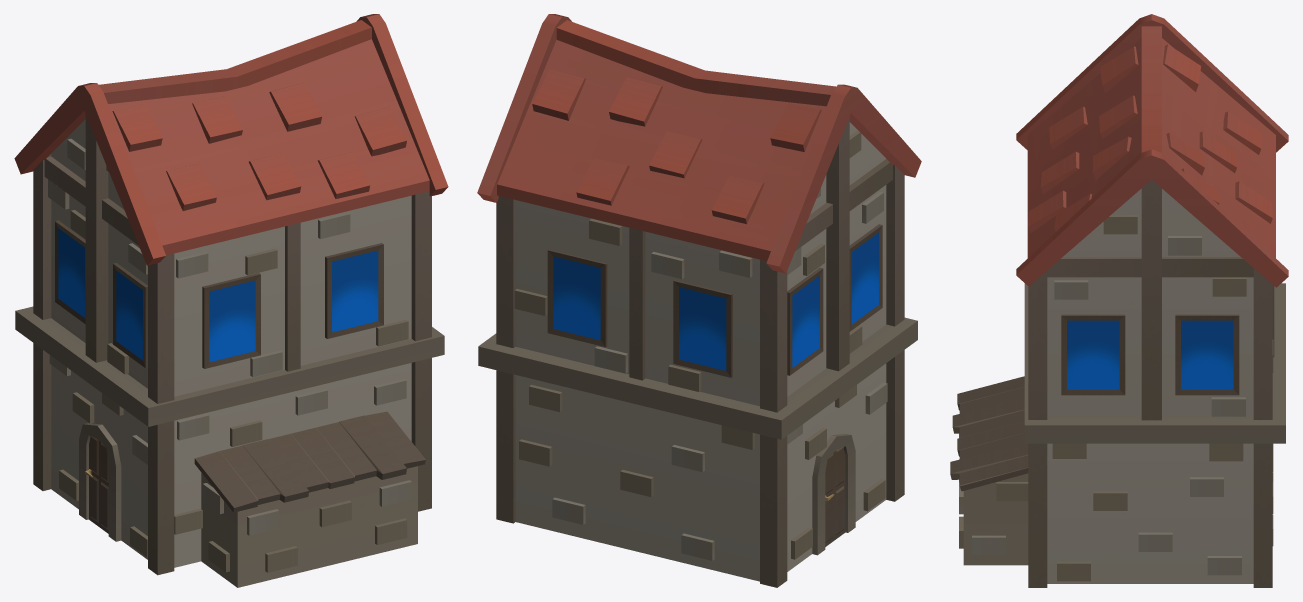
Rendered from SM_House_9.FBX.
3 renders of one model, left to right at view 1: azimuth 30°, elevation 25°; view 2: azimuth 150°, elevation 25°; view 3: azimuth 270°, elevation 25°, orthographic. The views are drawn at different scales.
Parts seen in each view (by area): view 1: SM_House_9; view 2: SM_House_9; view 3: SM_House_9.
Part boxes in pixels (left/top/right/bottom): SM_House_9: left=14, top=14, right=448, bottom=587; SM_House_9: left=477, top=14, right=921, bottom=587; SM_House_9: left=950, top=14, right=1288, bottom=587.
Size of what is drawn, in the model's own units: 690 by 696 by 993.
